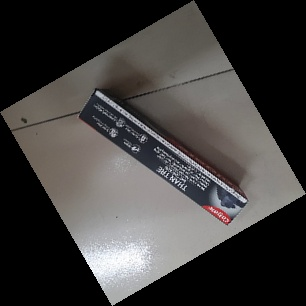Colgate Than: (76, 88, 249, 226)
